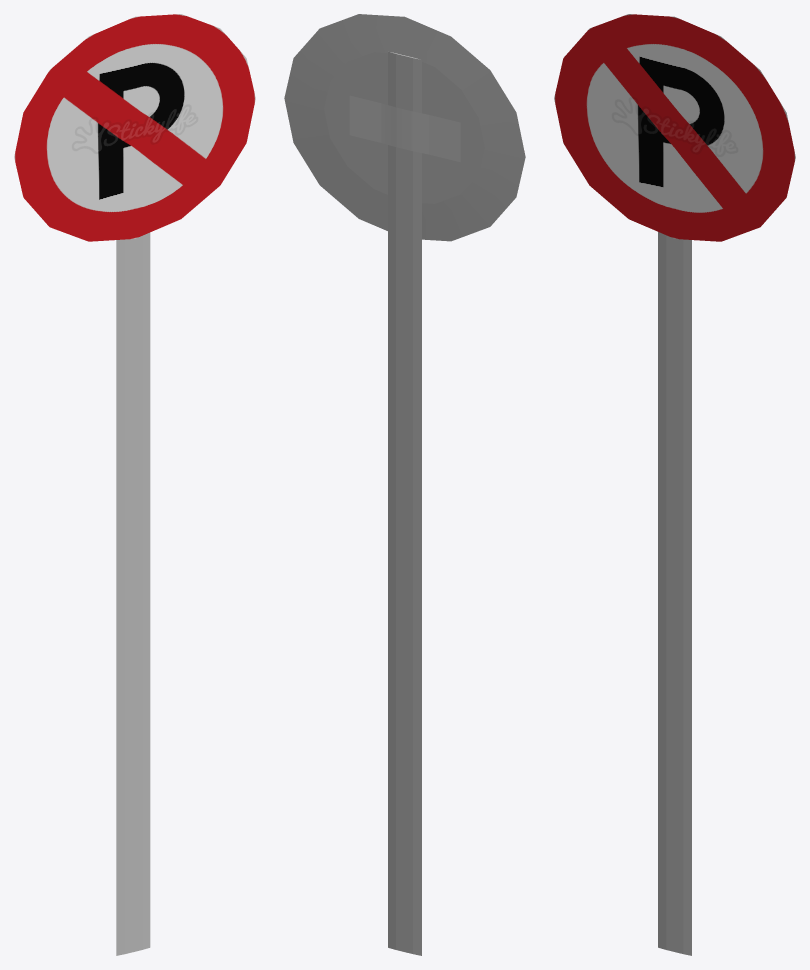
The model's file is parkyapilmaz.dae.
3 views of the same model, side by side, from view 1: azimuth 30°, elevation 25°; view 2: azimuth 150°, elevation 25°; view 3: azimuth 330°, elevation 25° (orthographic).
Visible parts, largest first — view 1: Sign_Circle.005; view 2: Sign_Circle.005; view 3: Sign_Circle.005.
Boxes of the visible parts, x1=… form: Sign_Circle.005: x1=14, y1=14, x2=255, y2=955; Sign_Circle.005: x1=284, y1=14, x2=525, y2=955; Sign_Circle.005: x1=554, y1=14, x2=795, y2=955.
Bounding box in the file's own units: 0.6897 × 0.00621 × 2.55.
Materials: 3 (1 with a texture image).
